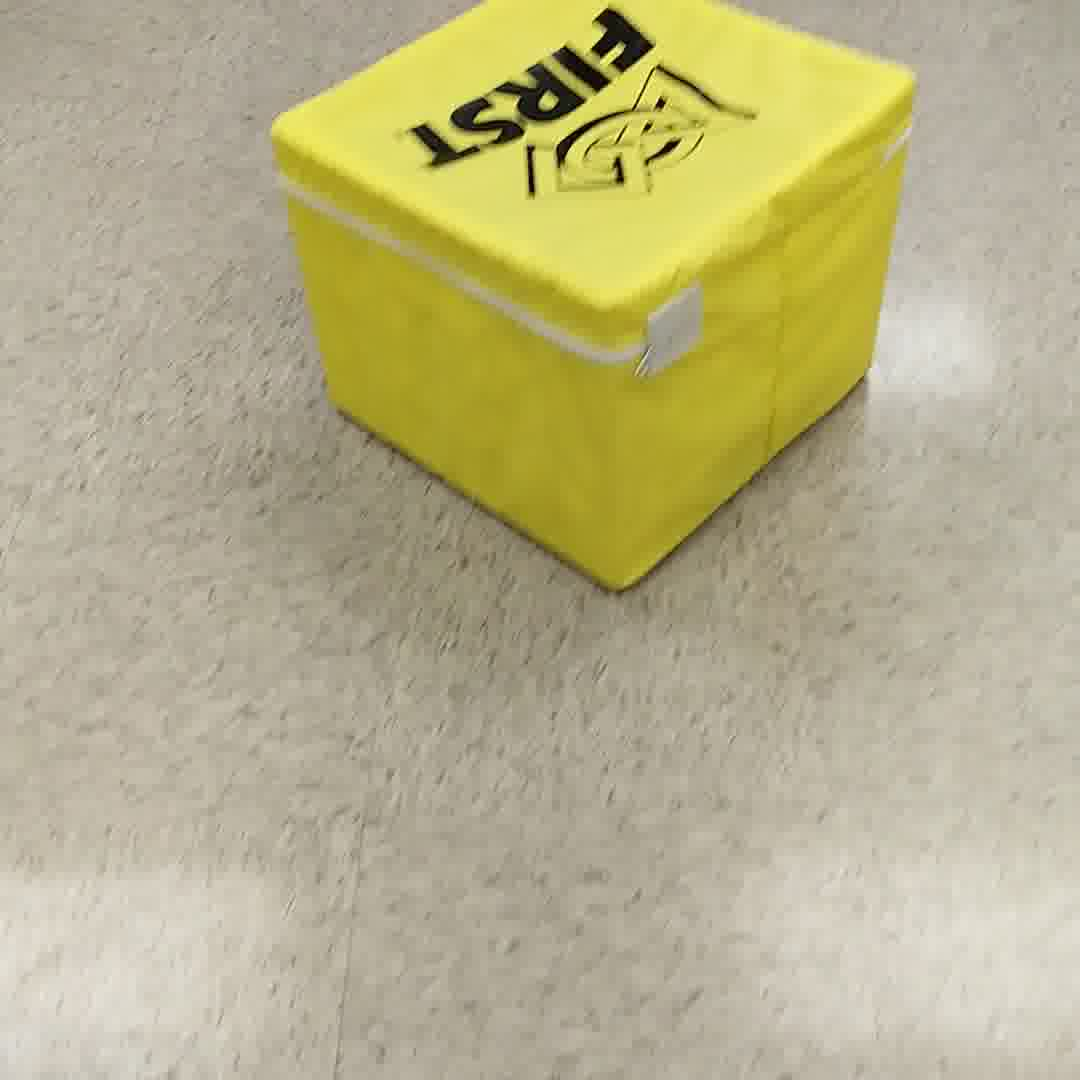box: (257, 12, 904, 597)
